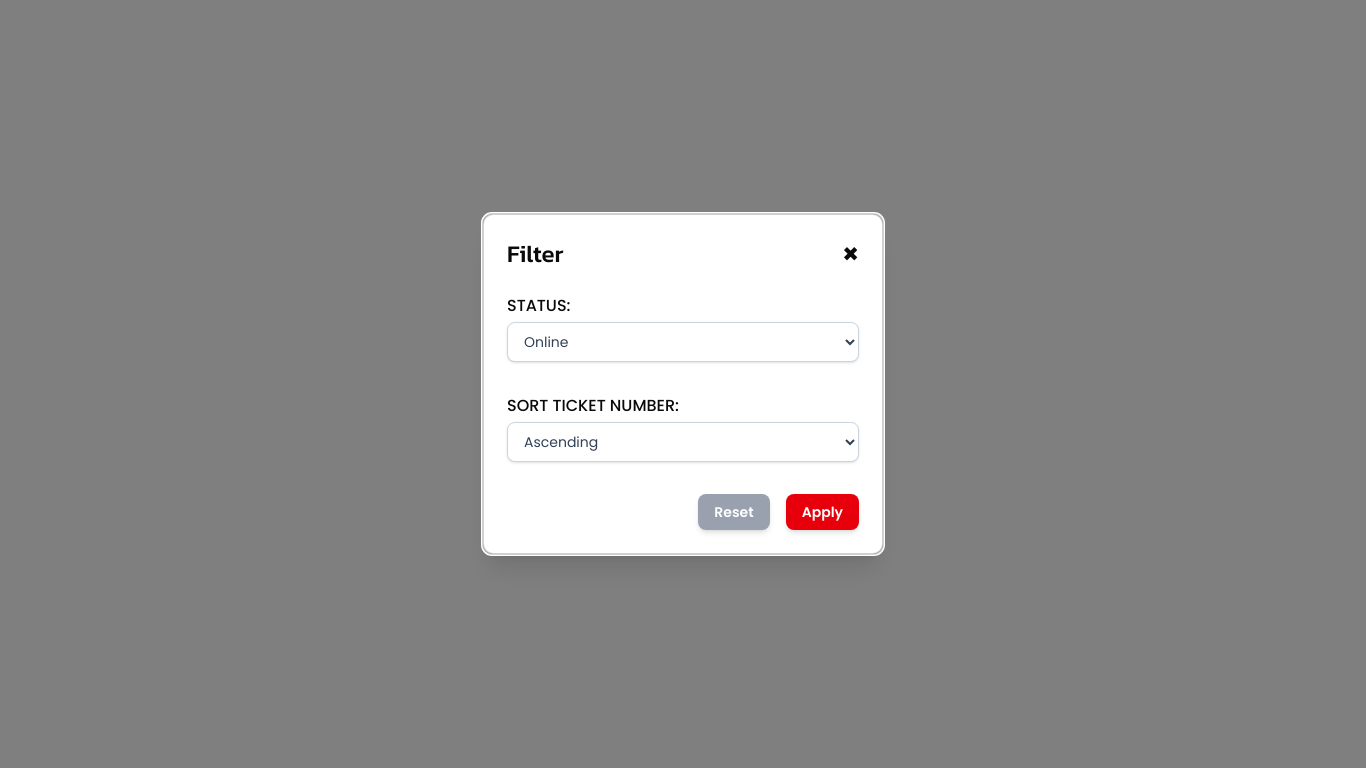
FilterAgent Modal › resets dropdowns when Reset button is clicked
This screenshot has width=1366, height=768.
Click the button "Reset" at point(734, 512), box [698,494,770,530]
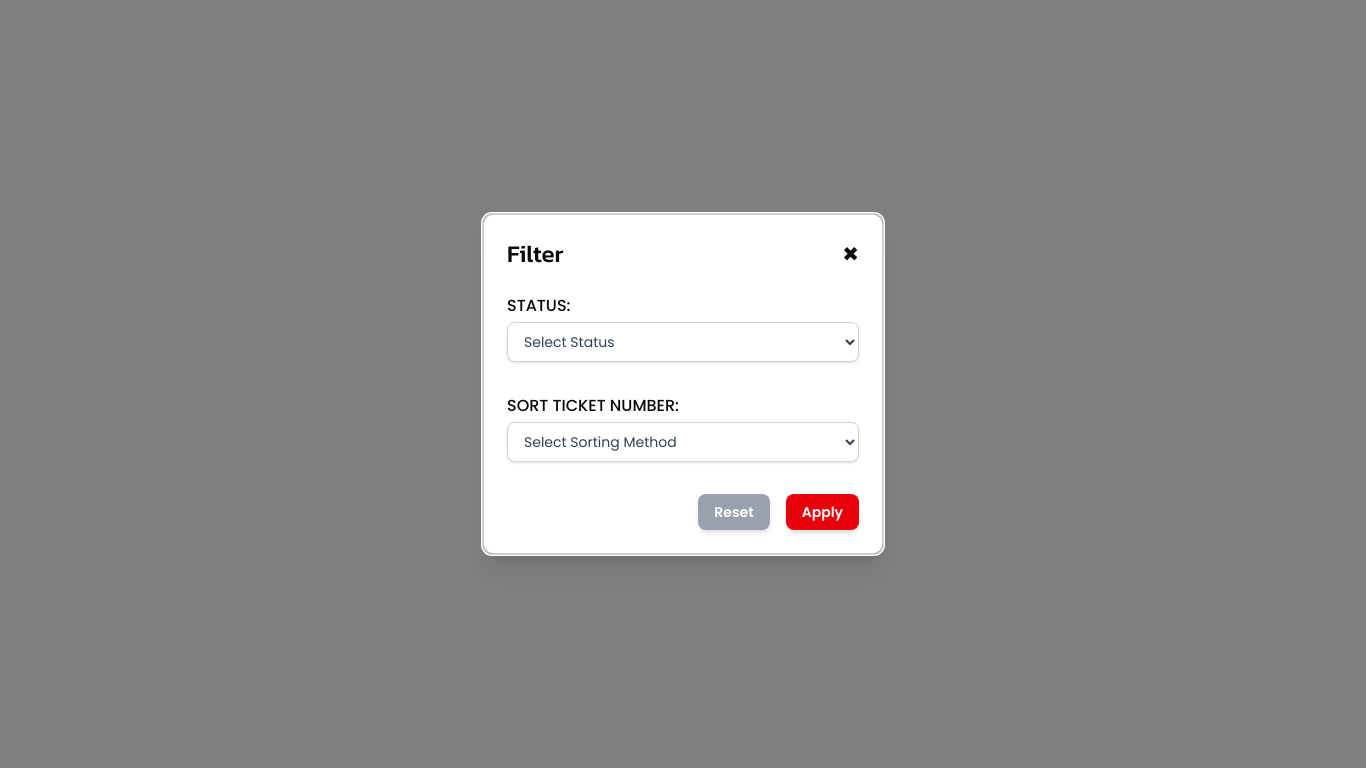
Expected: the dropdown showing "Select Status" below "STATUS:" is shown, [507,322,859,362]
Expected: the dropdown showing "Select Sorting Method" below "SORT TICKET NUMBER:" is shown, [507,422,859,462]
